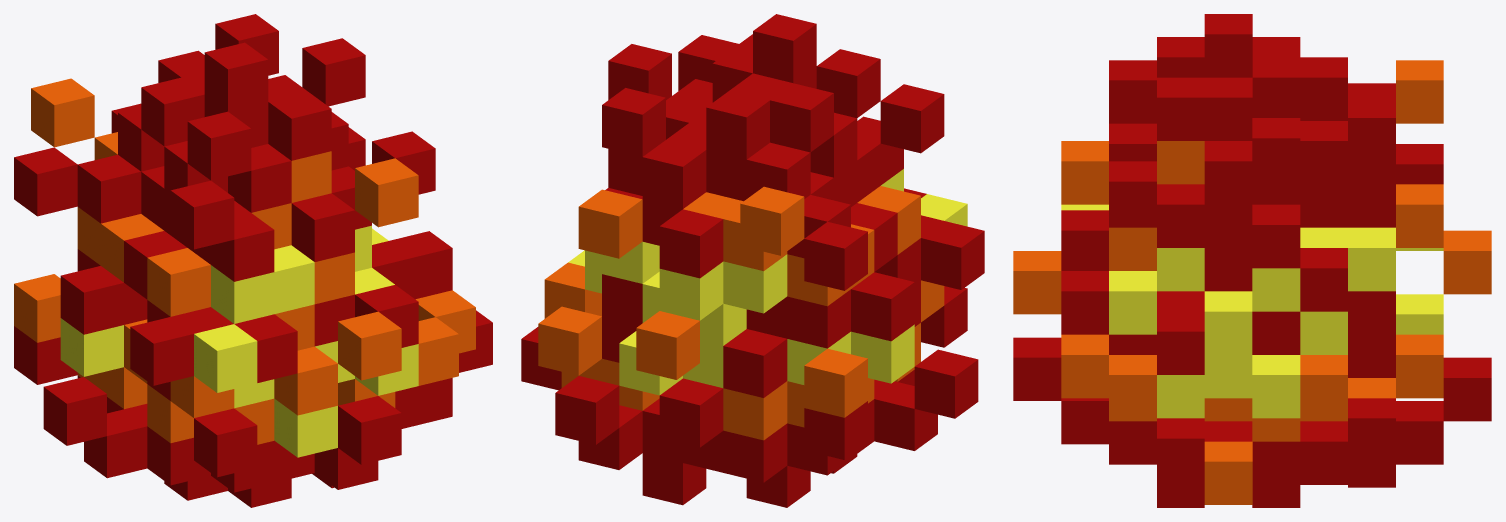
Rendered from fire 1.obj.
3 renders of one model, left to right at view 1: azimuth 30°, elevation 25°; view 2: azimuth 150°, elevation 25°; view 3: azimuth 270°, elevation 25°, orthographic. The views are drawn at different scales.
Size of the model in its own units: 1 by 1 by 1.
Materials: 1 (1 with a texture image).
